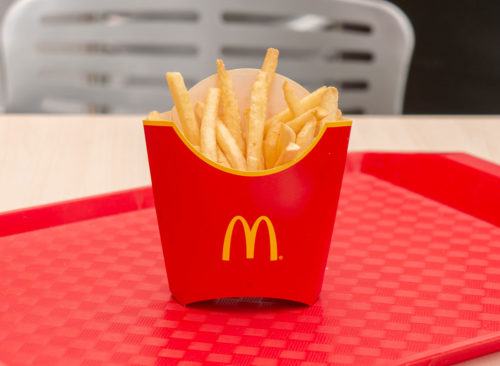mcdonalds: (216, 207, 287, 272)
